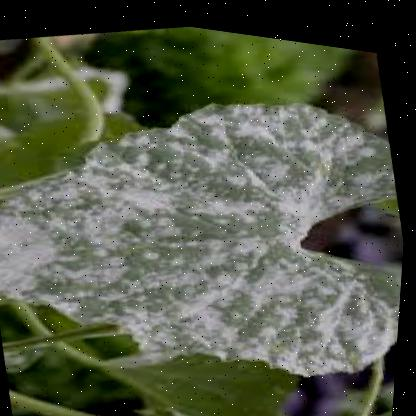PowderyMildew: (8, 144, 242, 318), (170, 91, 350, 231), (192, 242, 366, 358)
